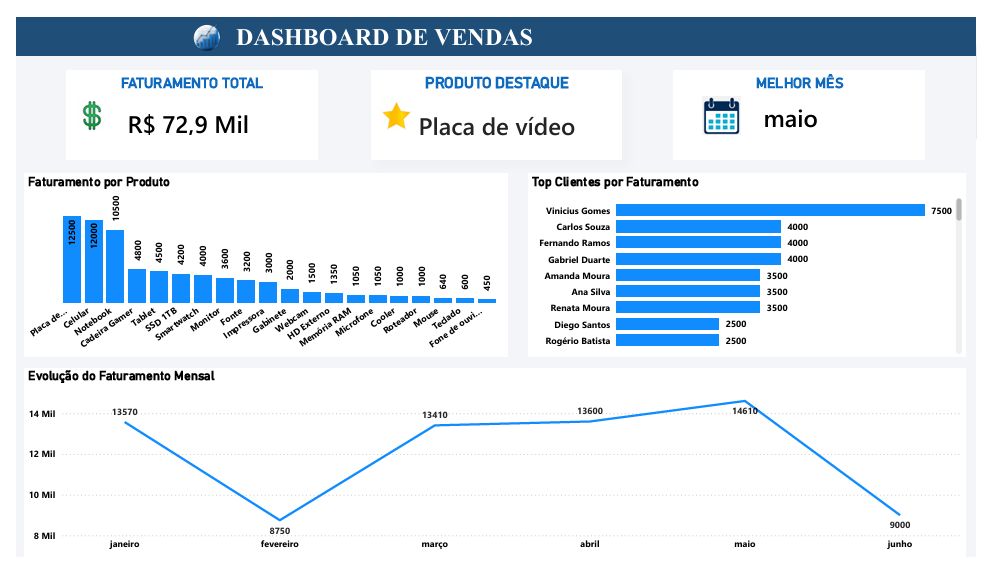

The dashboard page shown, as its layout file describes it:
{"tool":"powerbi","page":{"name":"Página 1","canvas":[1280,720],"ordinal":0},"visuals":[{"type":"cardVisual","title":"FATURAMENTO TOTAL","fields":{"Data":["Sum(vendas_loja.valor_total)"]},"box":[66.1,70.3,334.8,119.6],"z":0},{"type":"columnChart","title":"Faturamento por Produto","fields":{"Category":["vendas_loja.produto"],"Y":["Sum(vendas_loja.valor_total)"]},"box":[9.8,208.2,645.6,244.7],"z":1000},{"type":"barChart","title":"Top Clientes por Faturamento","fields":{"Category":["vendas_loja.cliente"],"Y":["Sum(vendas_loja.valor_total)"]},"box":[682.2,208.2,582.3,244.7],"z":2000},{"type":"lineChart","title":"Evolução do Faturamento Mensal","fields":{"Category":["vendas_loja.data.Variation.Hierarquia de datas.Mês"],"Y":["Sum(vendas_loja.valor_total)"]},"box":[9.8,467,1254.7,253.2],"z":3000},{"type":"shape","box":[0,0,1280,50.6],"z":4000},{"type":"cardVisual","title":"PRODUTO DESTAQUE","fields":{"Data":["vendas_loja.Produto Destaque"]},"box":[472.6,70.3,334.8,119.6],"z":5000},{"type":"cardVisual","title":"MELHOR MÊS","fields":{"Data":["vendas_loja.Melhor Mês"]},"box":[876.3,70.3,334.8,119.6],"z":6000},{"type":"image","box":[78.8,105.5,42.2,49.2],"z":7000},{"type":"image","box":[485.3,61.9,42.2,136.4],"z":8000},{"type":"image","box":[914.3,84.4,50.6,91.4],"z":9000},{"type":"image","box":[222.2,2.8,60.5,45],"z":9001}]}

Visuals, with their boxes in screenshot pixels (x1, y1, x2, y2), scaled from the page's 1280x720 canvas onto the 994x575 screenshot:
"FATURAMENTO TOTAL" cardVisual: <region>51, 56, 311, 152</region>
"Faturamento por Produto" columnChart: <region>8, 166, 509, 362</region>
"Top Clientes por Faturamento" barChart: <region>530, 166, 982, 362</region>
"Evolução do Faturamento Mensal" lineChart: <region>8, 373, 982, 574</region>
shape: <region>0, 0, 993, 40</region>
"PRODUTO DESTAQUE" cardVisual: <region>367, 56, 627, 152</region>
"MELHOR MÊS" cardVisual: <region>681, 56, 940, 152</region>
image: <region>61, 84, 94, 124</region>
image: <region>377, 49, 410, 158</region>
image: <region>710, 67, 749, 140</region>
image: <region>173, 2, 220, 38</region>
